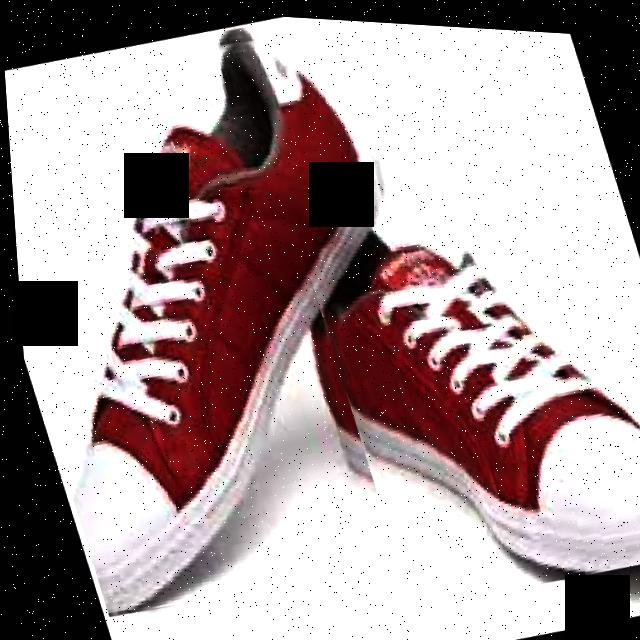shoe: (0, 0, 498, 634), (288, 149, 640, 616)
